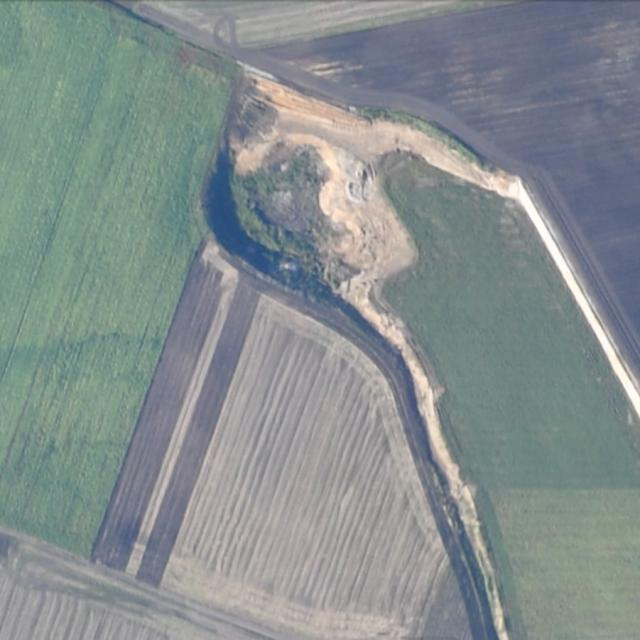landslide: (227, 74, 440, 291)
